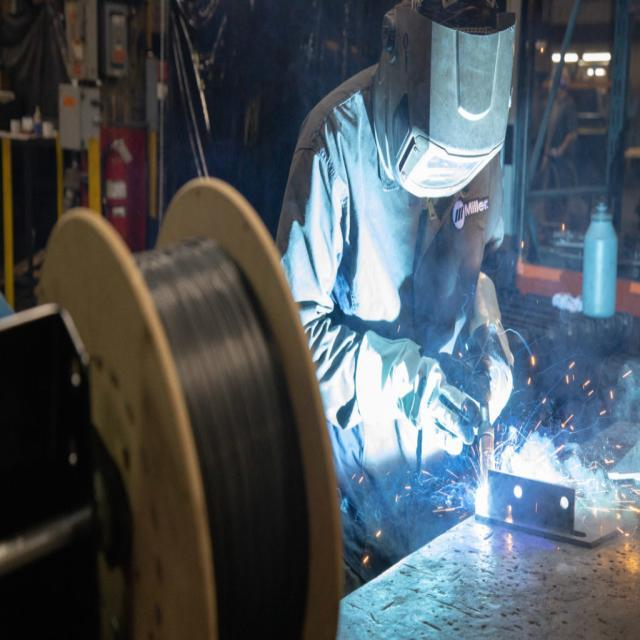with_helmet: (284, 0, 512, 320)
